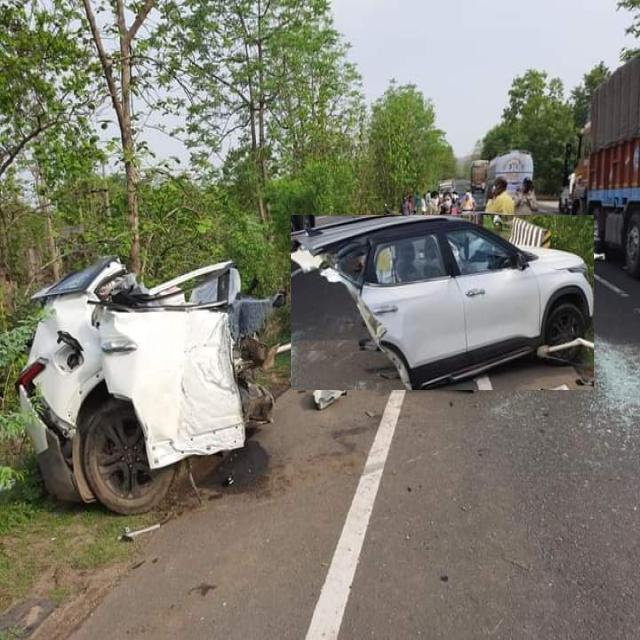accident: (18, 257, 272, 512), (291, 215, 594, 390)
